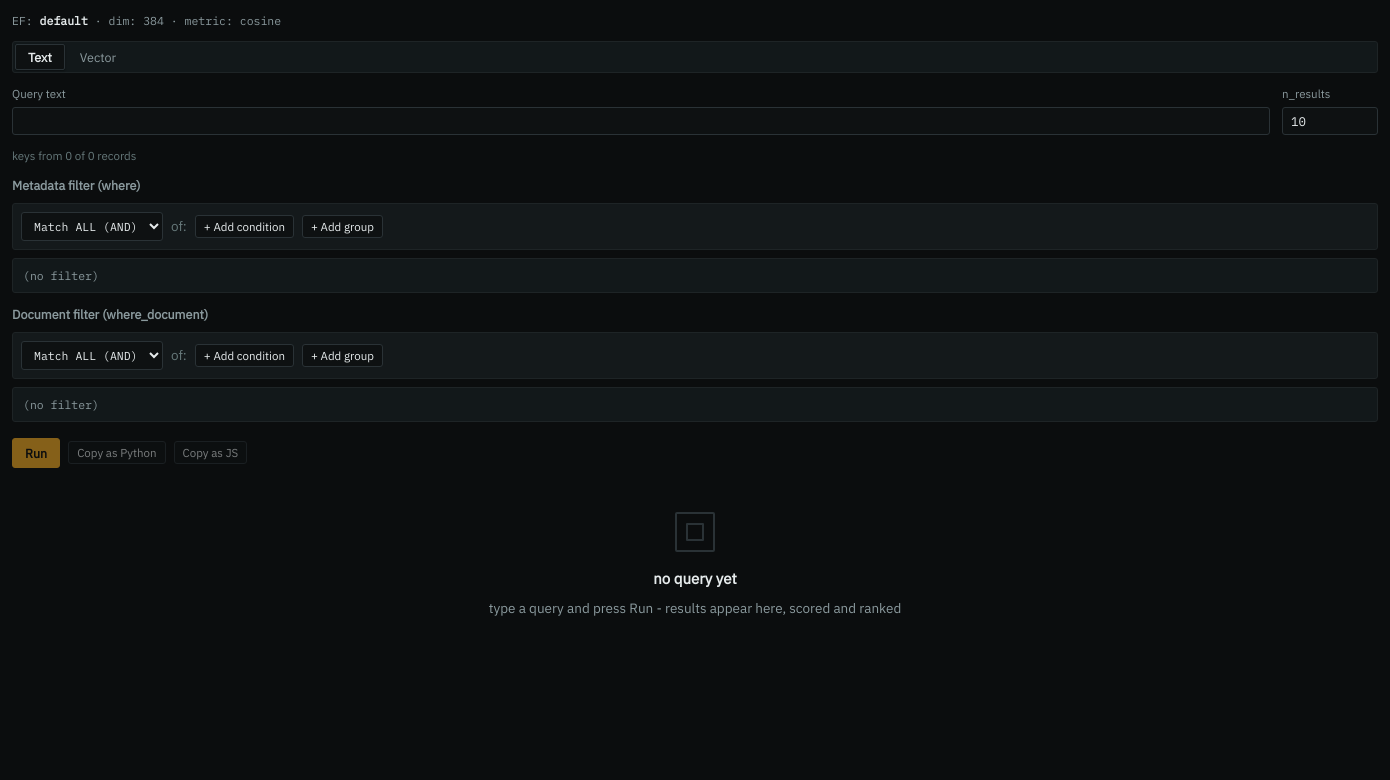
copy JS is disabled until the query is ready
expect the button "Copy as JS" is disabled: met, box 174,441 -> 247,464
In the field labelled "Query text": (641, 120) 12,106 -> 1270,134, type "hello"
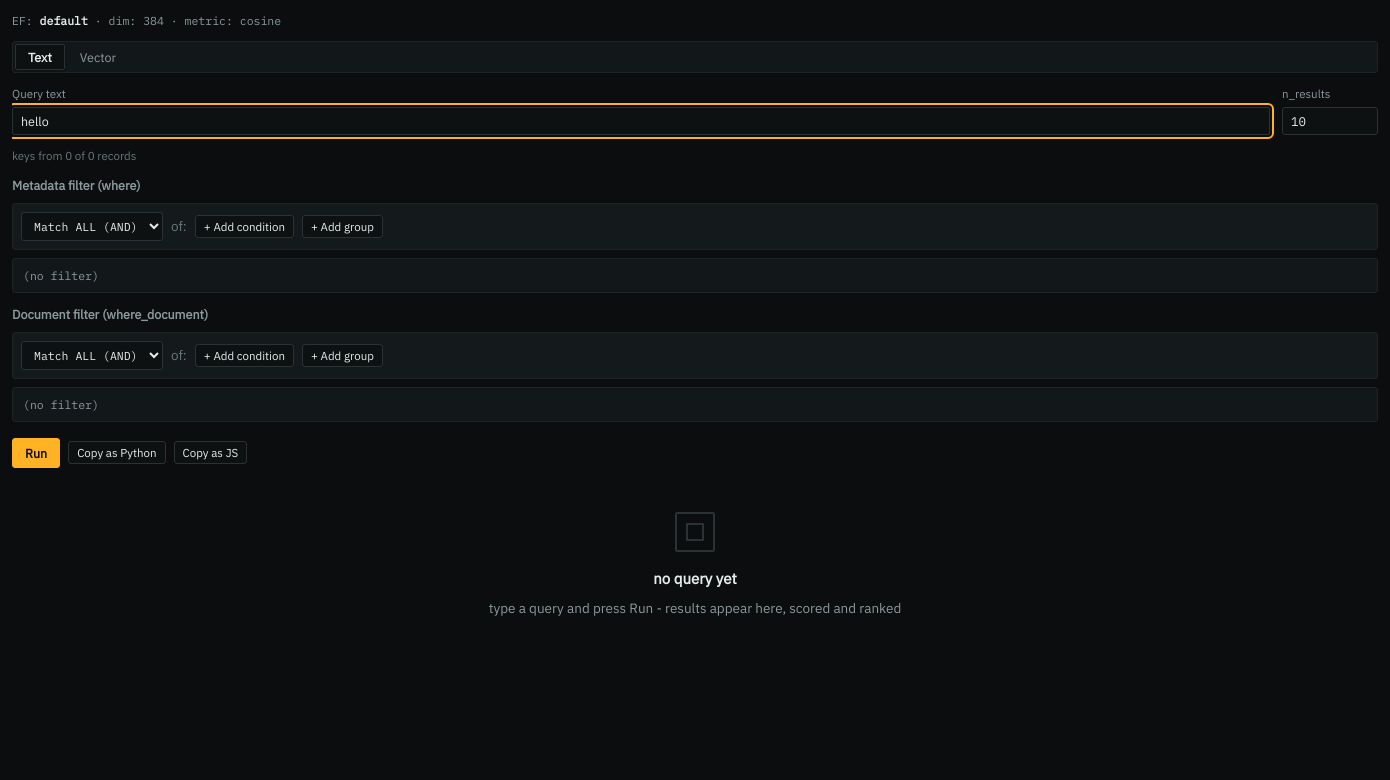
expect the button "Copy as JS" is enabled: met, box 174,441 -> 247,464
